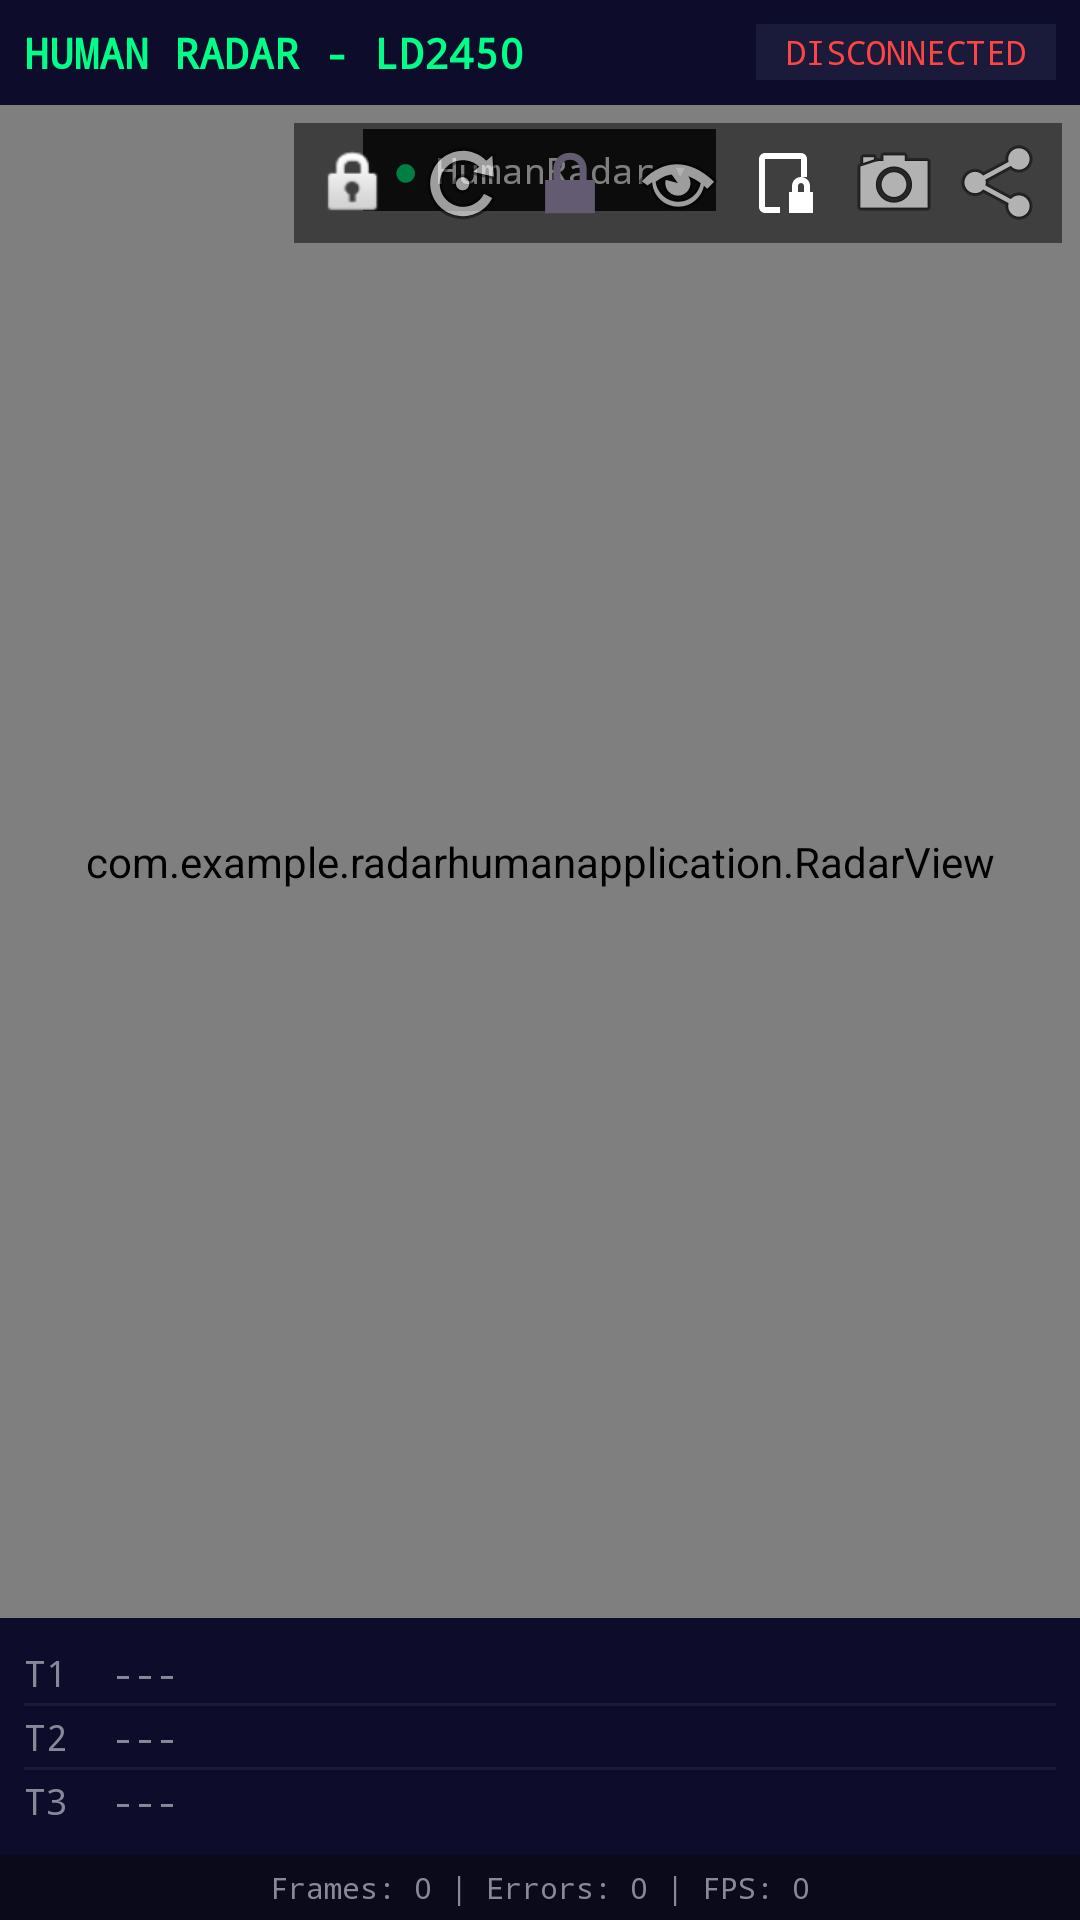

Icons on this 1080px x 1920px Android screen, each with its box as (x1, y1, x2, y2):
Snapshot: (858, 153, 930, 210)
